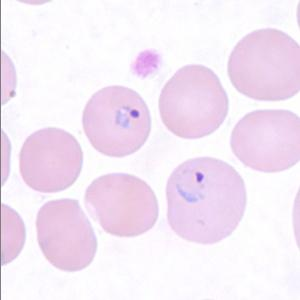Infected: (166, 157, 248, 245), (83, 85, 151, 158)
Uninfected: (159, 64, 230, 140), (228, 28, 300, 102), (88, 172, 158, 238), (231, 108, 300, 174), (36, 198, 97, 271), (18, 127, 84, 194)
